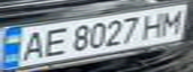0: (87, 20, 109, 50)
2: (103, 16, 127, 47)
7: (118, 14, 145, 44)
8: (69, 21, 93, 53)
A: (15, 28, 51, 63)
E: (36, 25, 72, 58)
H: (136, 10, 172, 39)
M: (154, 6, 190, 36)
